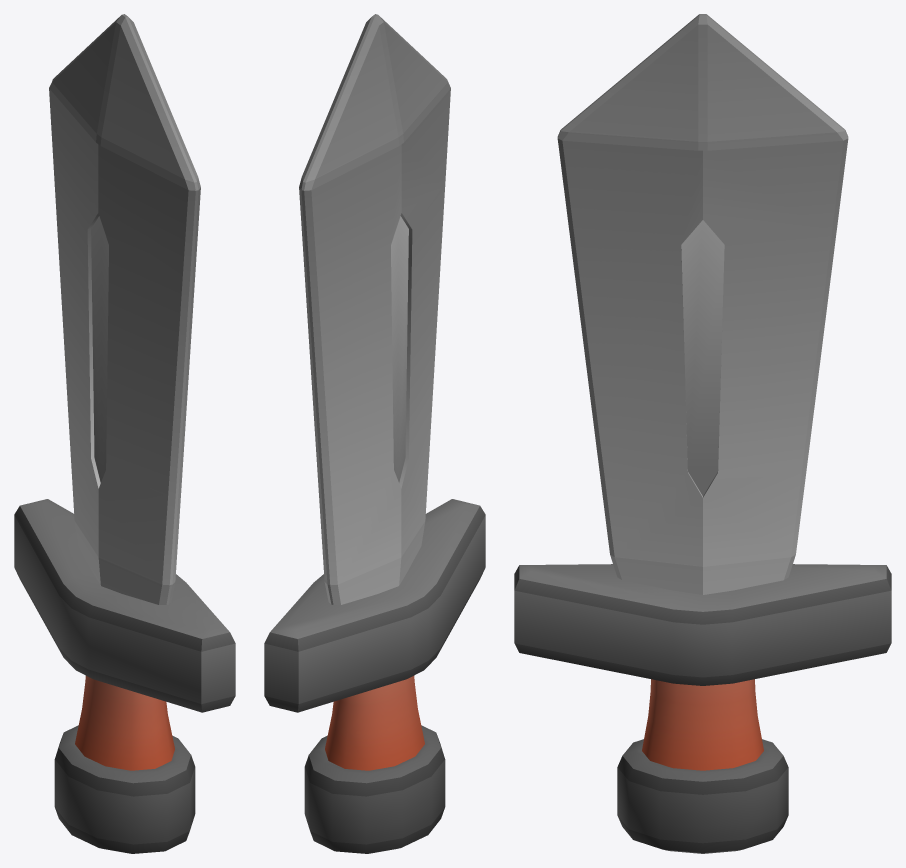
The model's file is Sword_V1_00.fbx.
3 renders of one model, left to right at view 1: azimuth 30°, elevation 25°; view 2: azimuth 150°, elevation 25°; view 3: azimuth 270°, elevation 25°, orthographic.
Visible parts, largest first — view 1: Sword_V1_00; view 2: Sword_V1_00; view 3: Sword_V1_00.
Part boxes in pixels (x1,y1,x2,y2): Sword_V1_00: (14,14,235,853); Sword_V1_00: (264,14,485,853); Sword_V1_00: (514,14,891,853).
Bounding box in the file's own units: 5.81 × 39.84 × 16.66.
